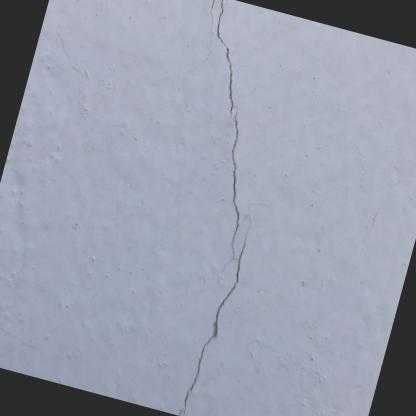crack: (179, 207, 253, 416), (216, 0, 242, 280), (209, 0, 216, 37)
